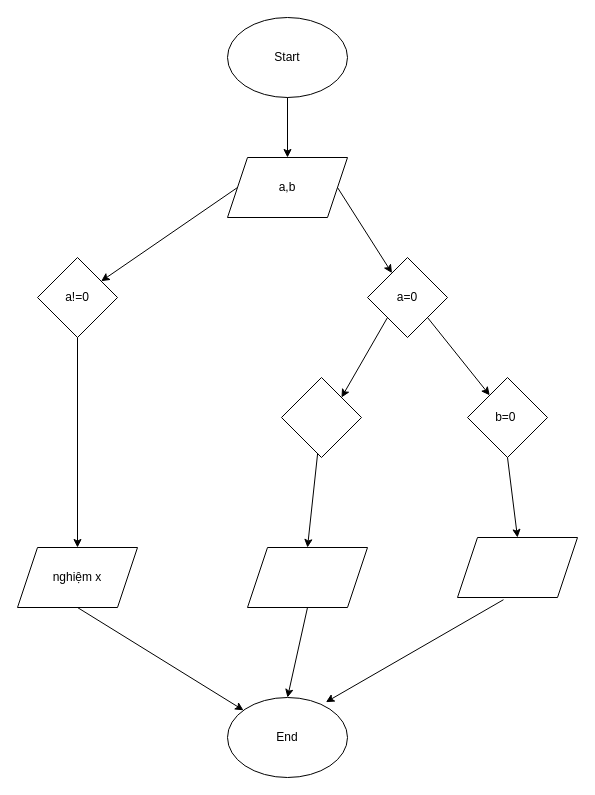
Image size: 595x795. Some labels were removed from this diagram. The box of each missing label's shape, as (x1, y1, x2, y2) in pixels:
b!=0: (280, 376, 362, 458)
vô nghiệm: (246, 546, 368, 608)
vô số nghiệm: (456, 536, 578, 598)
